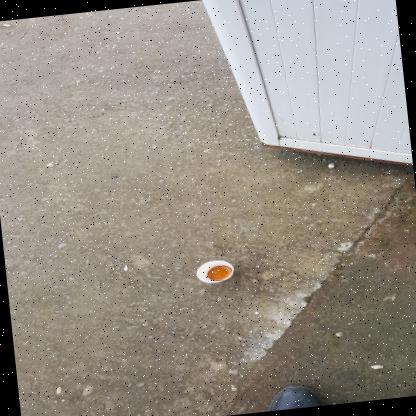Cigarette: (3, 23, 11, 27)
Other plastic bottle: (110, 259, 119, 265)
Paper cup: (196, 260, 233, 282)
